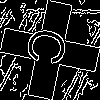C: (25, 25, 77, 70)
